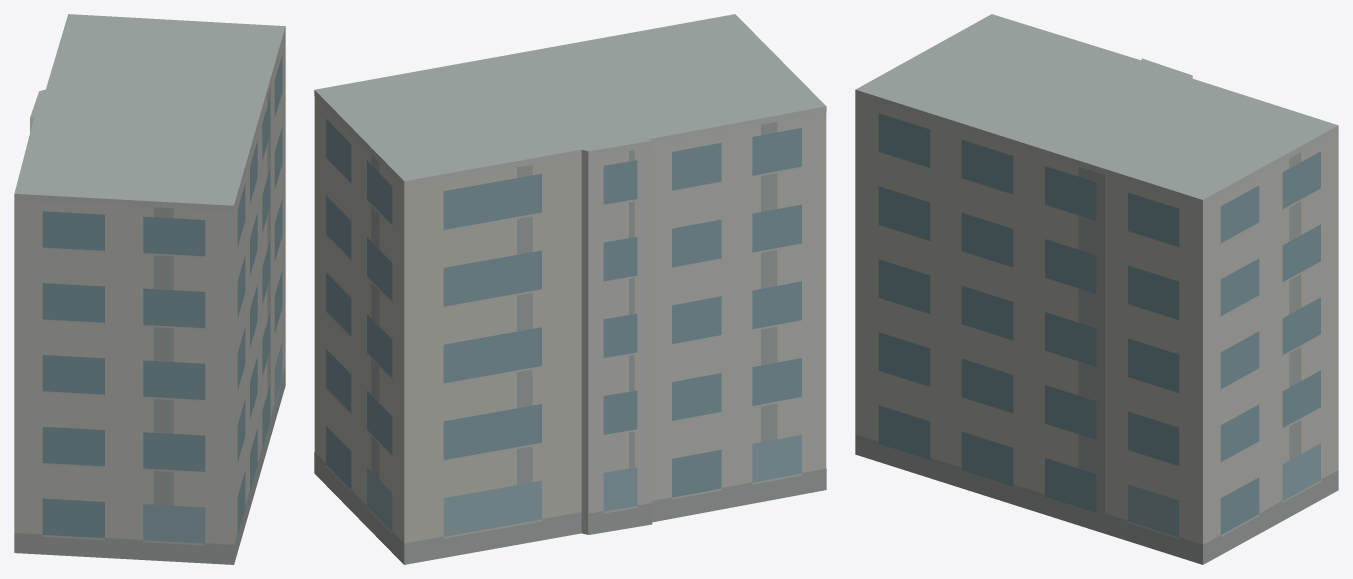
Rendered from survey-upis-32996011.glb.
3 renders of one model, left to right at view 1: azimuth 30°, elevation 25°; view 2: azimuth 150°, elevation 25°; view 3: azimuth 270°, elevation 25°, orthographic. The views are drawn at different scales.
Parts seen in each view (by area): view 1: survey-upis-32996011.tmp; view 2: survey-upis-32996011.tmp; view 3: survey-upis-32996011.tmp.
Boxes of the visible parts, x1,y1,x2,y2 form: survey-upis-32996011.tmp: [14, 14, 285, 564]; survey-upis-32996011.tmp: [314, 14, 826, 564]; survey-upis-32996011.tmp: [855, 14, 1338, 564].
Size of the model in its own units: 15.97 by 14.6 by 17.53.
